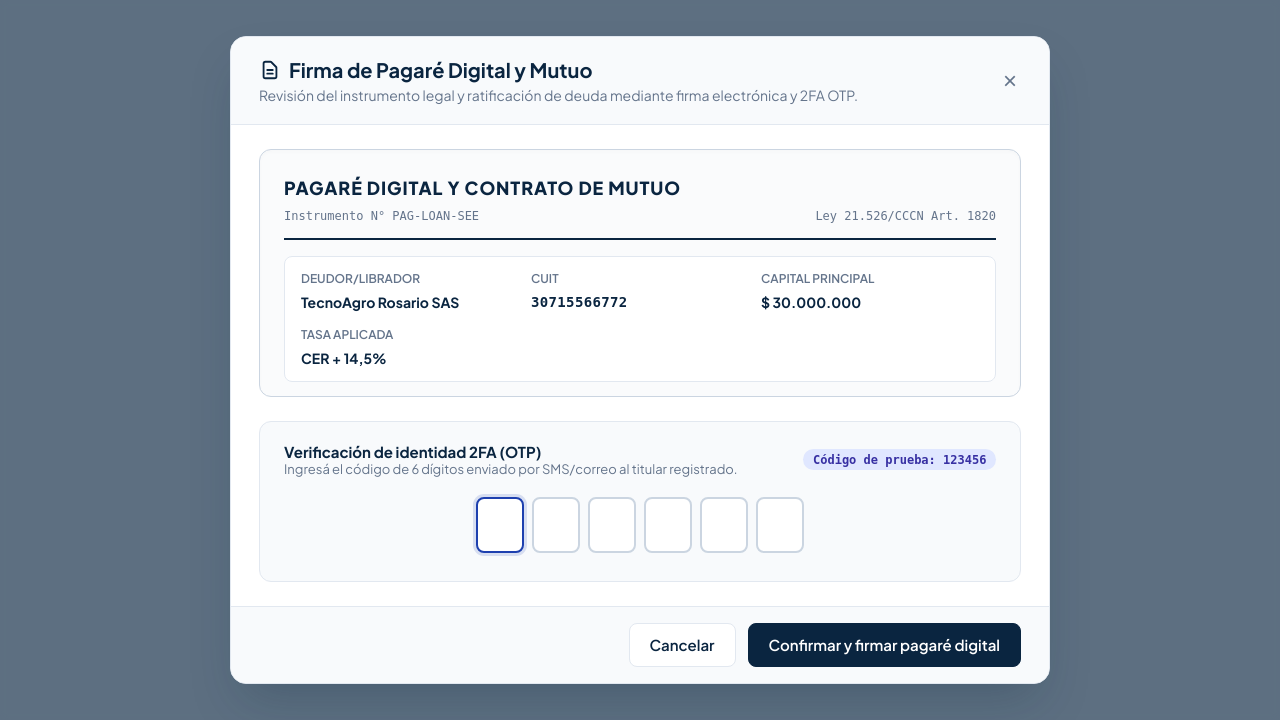
Test: PromissoryNoteModal Component & Signing Flow (Issue #16) › successfully signs contract with SHA-256 hash when valid OTP is entered
The image size is (1280, 720).
In the field with test id "otp-input-0": (500, 525) [476, 497, 524, 553], type "1"
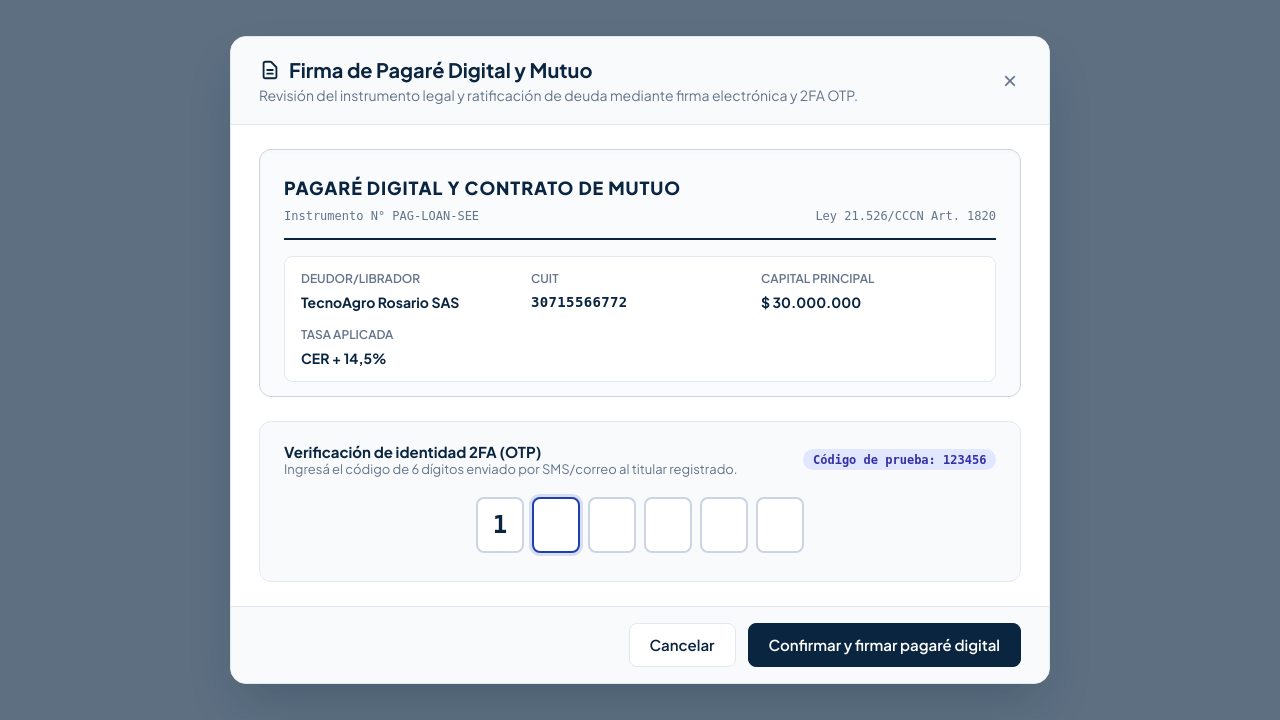
In the field with test id "otp-input-1": (556, 525) [532, 497, 580, 553], type "2"
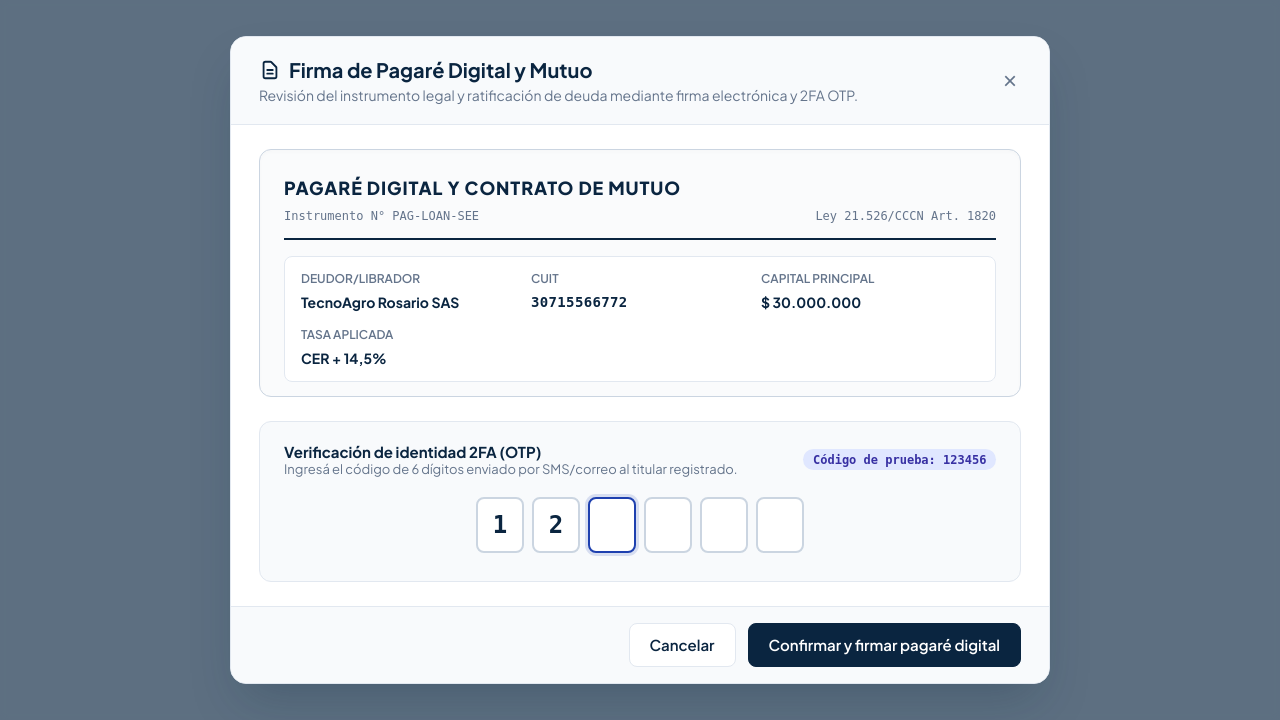
In the field with test id "otp-input-2": (612, 525) [588, 497, 636, 553], type "3"
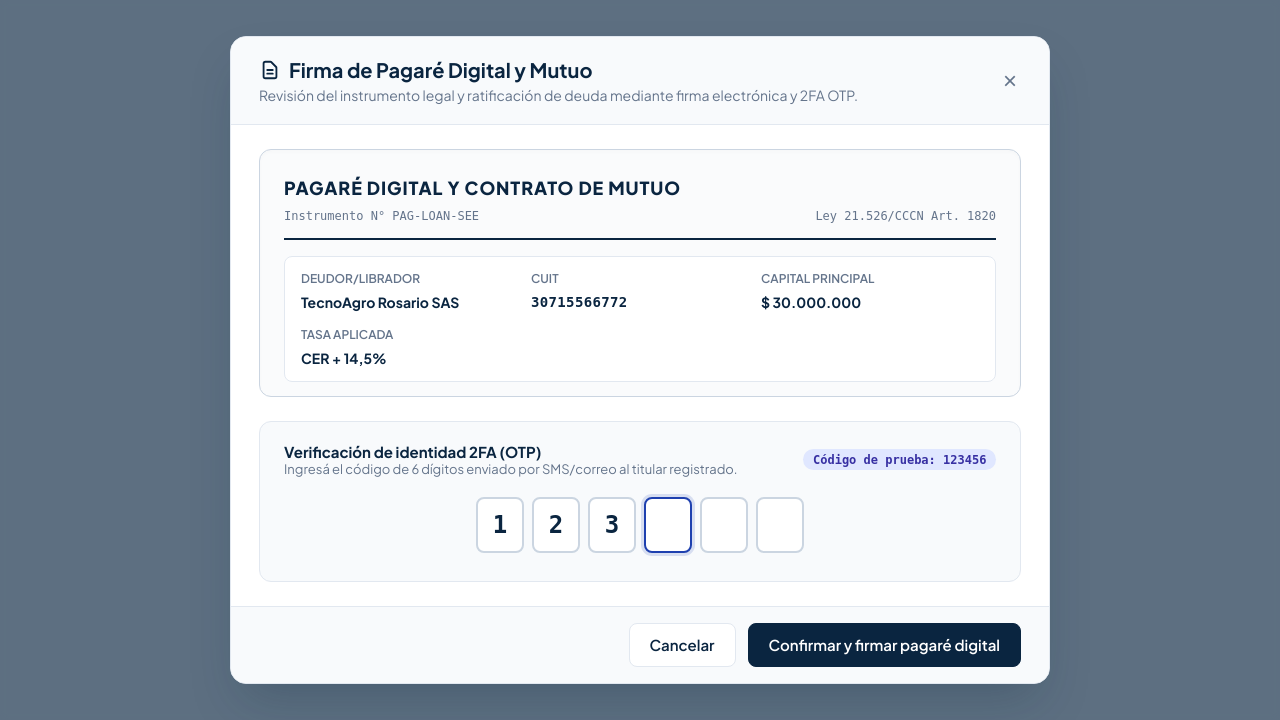
In the field named "Dígito 4 del código OTP": (668, 525) [644, 497, 692, 553], type "4"
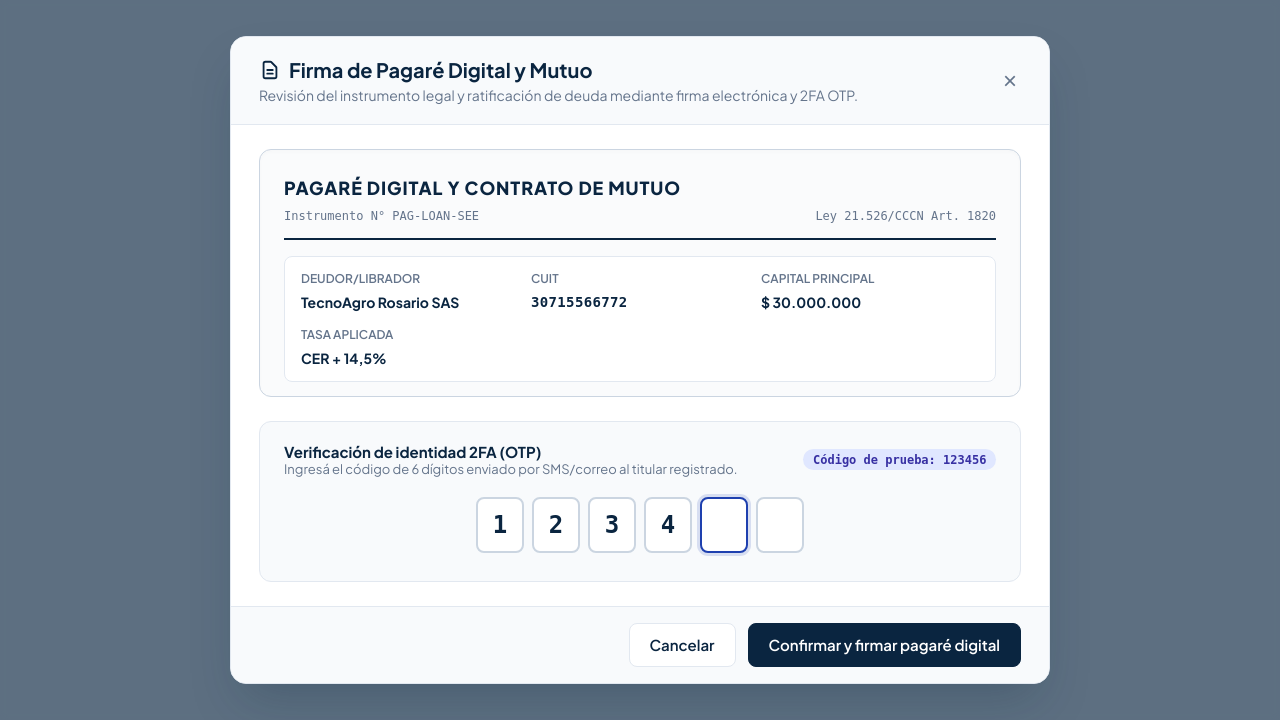
In the field named "Dígito 5 del código OTP": (724, 525) [700, 497, 748, 553], type "5"
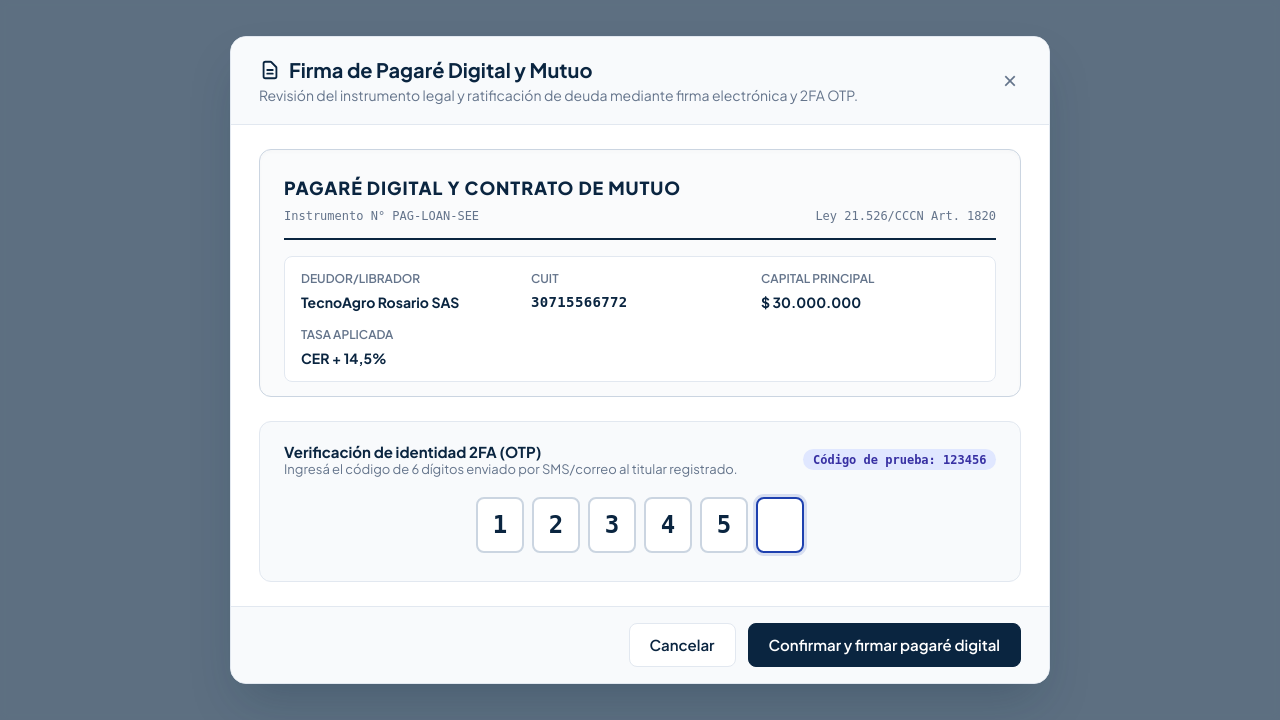
In the field named "Dígito 6 del código OTP": (780, 525) [756, 497, 804, 553], type "6"
Click the button with test id "btn-confirm-sign": (884, 645) [748, 623, 1021, 667]
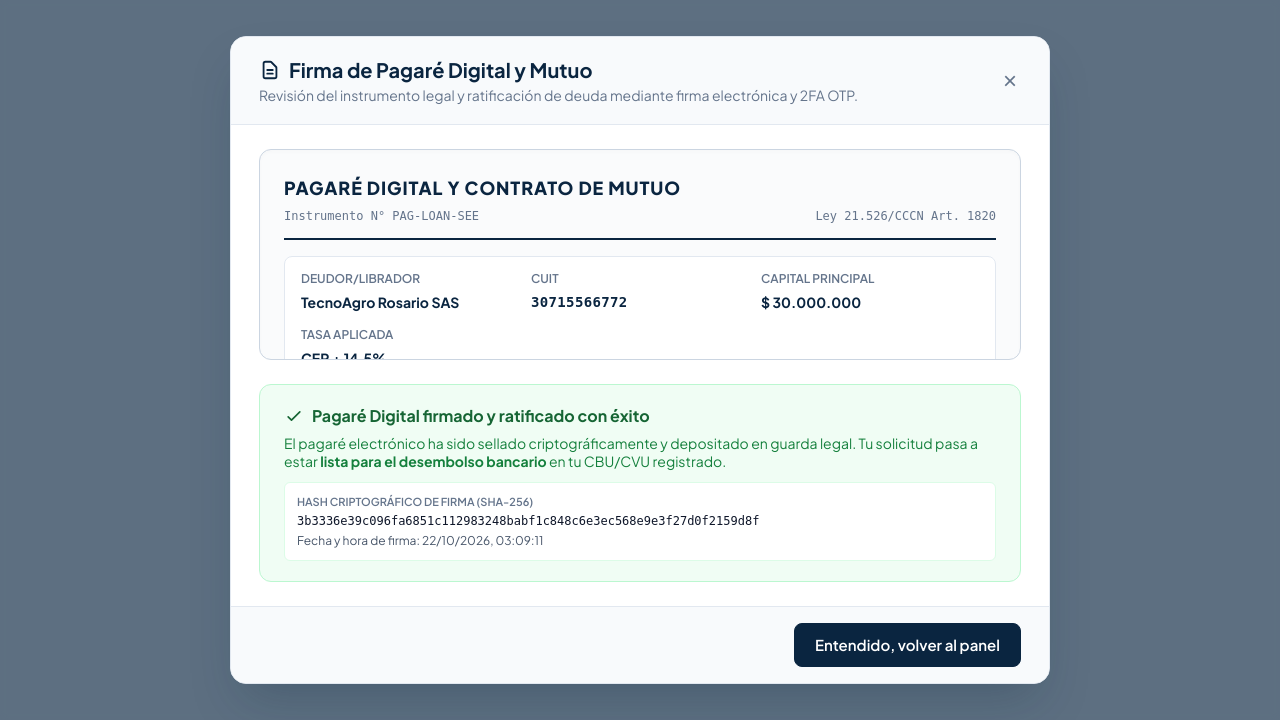
Expected: the element with test id "signature-success-pane" is shown, [259, 384, 1021, 582]
Expected: the text "Fecha y hora de firma: 22/10/2026, 03:09:11" is shown, [297, 533, 543, 548]
